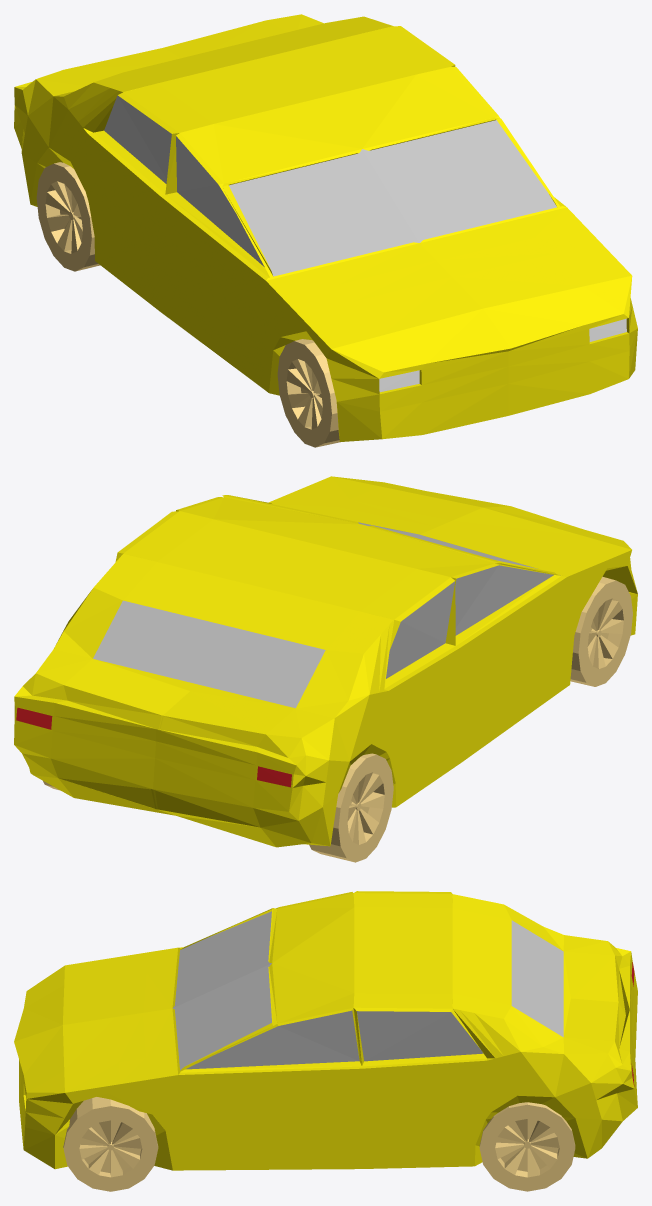
File: car2.obj
3 views of the same model, one above another, from view 1: azimuth 30°, elevation 25°; view 2: azimuth 150°, elevation 25°; view 3: azimuth 270°, elevation 25° (orthographic). The views are drawn at different scales.
Parts seen in each view (by area): view 1: Cube; view 2: Cube; view 3: Cube.
Part boxes in pixels (left/top/right/bottom): Cube: left=14, top=14, right=637, bottom=447; Cube: left=14, top=476, right=637, bottom=862; Cube: left=14, top=891, right=637, bottom=1191.
Size of the model in its own units: 1.95 by 1.27 by 4.03.
